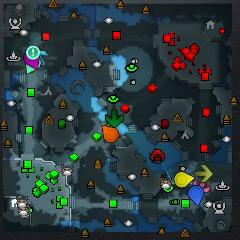Other: (27, 46, 40, 60)
p1: (188, 187, 204, 205)
p2: (26, 59, 42, 75)
p3: (23, 53, 39, 69)
p4: (174, 172, 194, 187)
p5: (102, 125, 119, 143)
x1: (194, 180, 211, 193)
x2: (194, 165, 213, 182)
x3: (39, 50, 48, 67)
x4: (106, 110, 123, 127)
